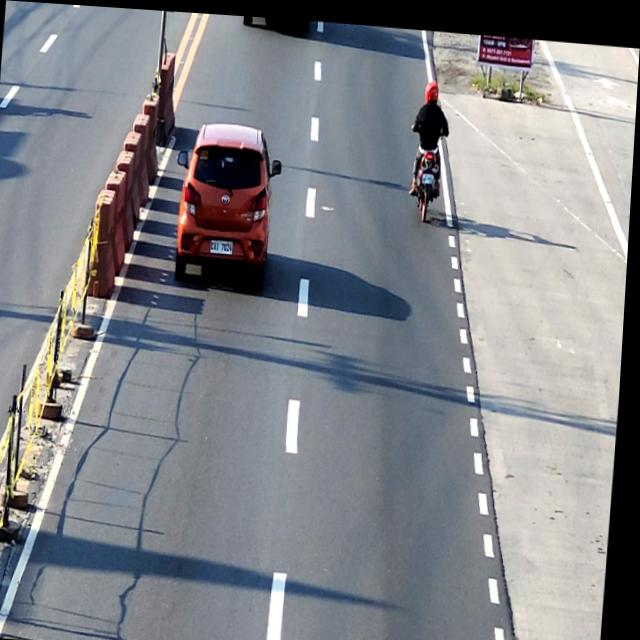Car: (171, 115, 286, 285)
License-Plate: (212, 235, 236, 251), (423, 167, 435, 177)
Motorcycle: (406, 112, 446, 218)
